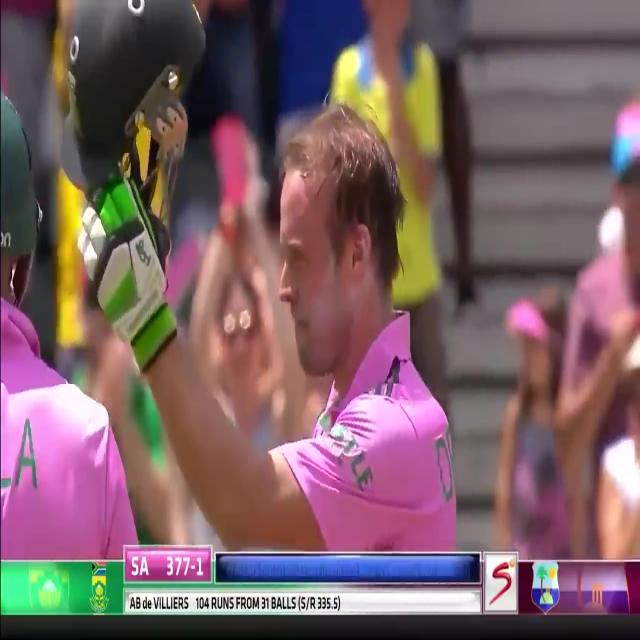Ball: (71, 1, 474, 548), (0, 3, 184, 561)
